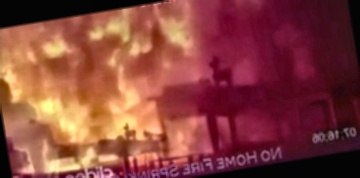fire: (0, 0, 328, 176)
